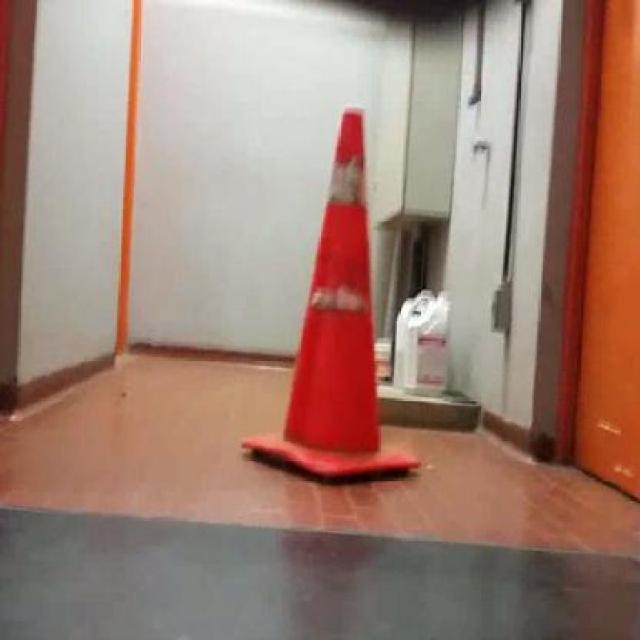Cone: (242, 108, 420, 477)
